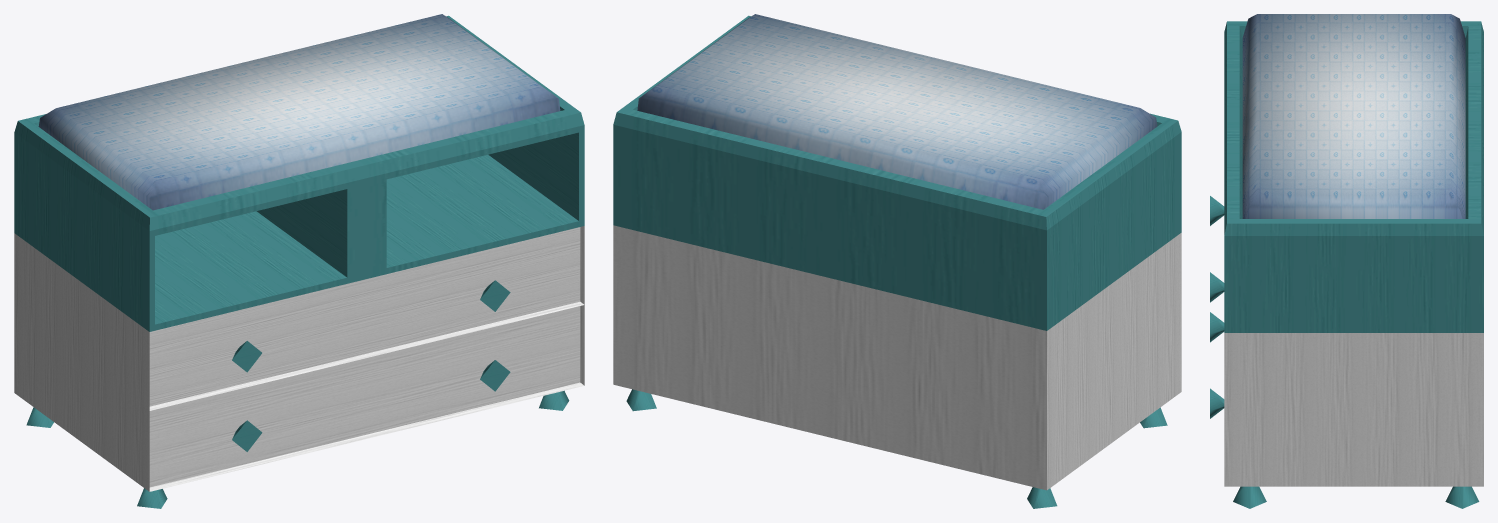
File: Changing_Table_B.FBX
3 renders of one model, left to right at view 1: azimuth 30°, elevation 25°; view 2: azimuth 150°, elevation 25°; view 3: azimuth 270°, elevation 25°, orthographic. The views are drawn at different scales.
Visible parts, largest first — view 1: Changing table; view 2: Changing table; view 3: Changing table.
Boxes of the visible parts, x1,y1,x2,y2 form: Changing table: [14, 14, 584, 508]; Changing table: [613, 14, 1181, 508]; Changing table: [1210, 14, 1483, 508].
Size of the model in its own units: 163 by 113 by 92.29.
